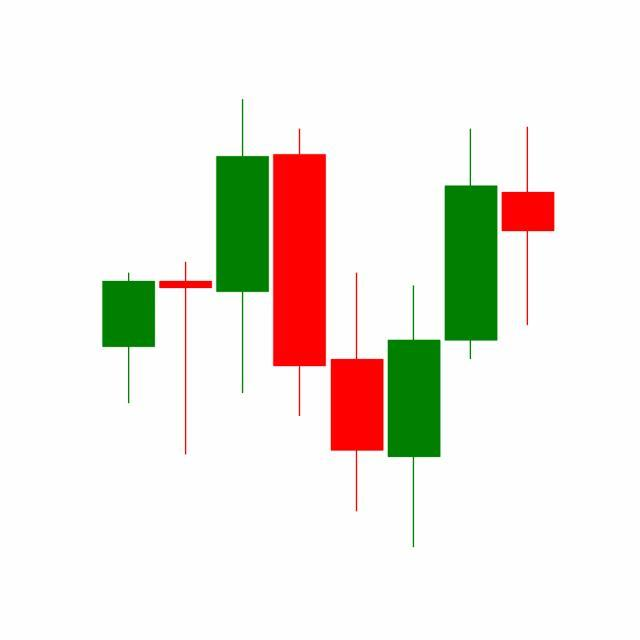Three Outside Up-Down: (328, 124, 500, 548)
